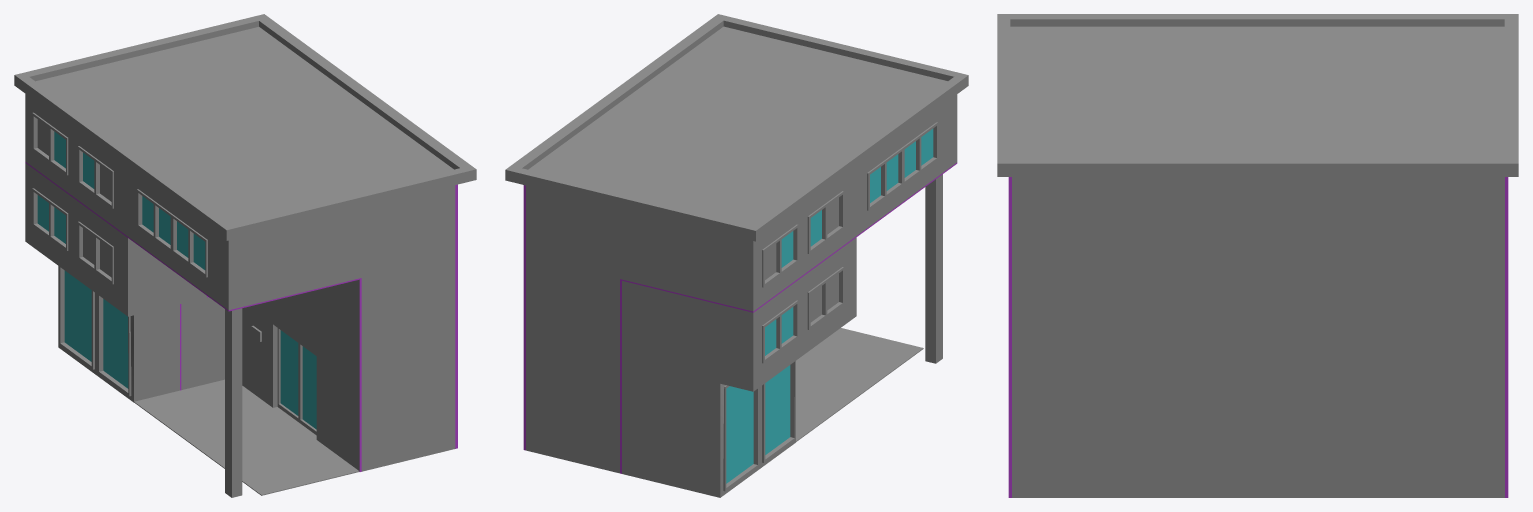
Rendered from BuildingS_07_var3.fbx.
3 renders of one model, left to right at view 1: azimuth 30°, elevation 25°; view 2: azimuth 150°, elevation 25°; view 3: azimuth 270°, elevation 25°, orthographic. The views are drawn at different scales.
Visible parts, largest first — view 1: BuildingS_07_var3; view 2: BuildingS_07_var3; view 3: BuildingS_07_var3.
Boxes of the visible parts, bbox=[...] form: BuildingS_07_var3: bbox=[14, 14, 476, 497]; BuildingS_07_var3: bbox=[505, 14, 968, 497]; BuildingS_07_var3: bbox=[997, 14, 1518, 497].
Bounding box in the file's own units: 0.2113 × 0.2255 × 0.3108.
